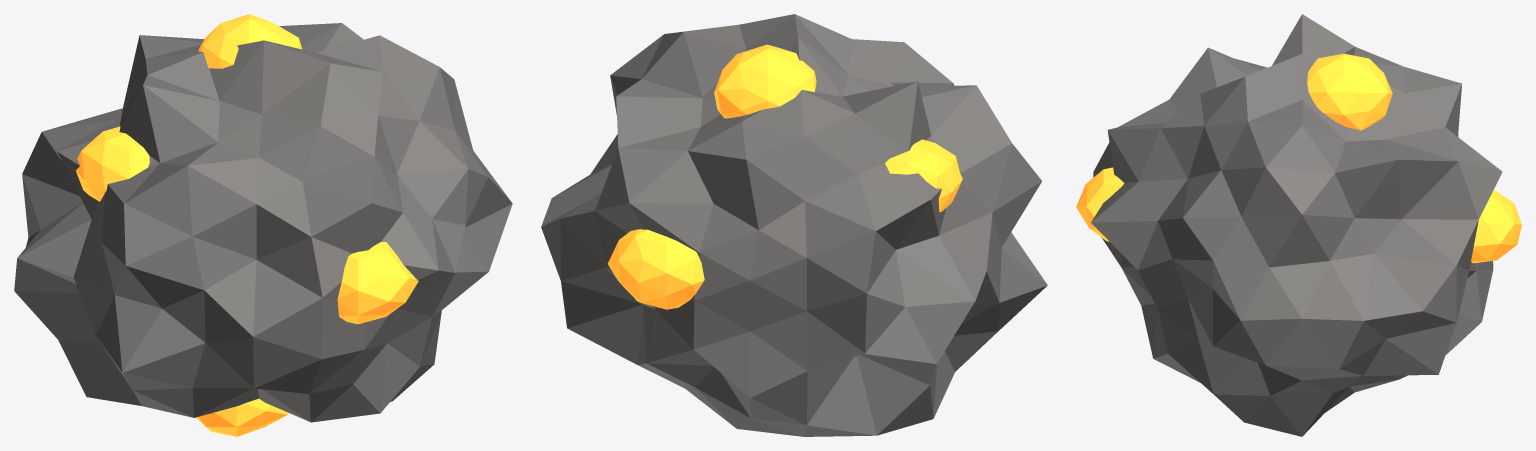
The model's file is volatile-rock.glb.
The picture shows the model from 3 angles, left to right: view 1: azimuth 30°, elevation 25°; view 2: azimuth 150°, elevation 25°; view 3: azimuth 270°, elevation 25°; orthographic projection. The views are drawn at different scales.
Visible parts, largest first — view 1: volatile-rock-rock, volatile-rock-orange; view 2: volatile-rock-rock, volatile-rock-orange; view 3: volatile-rock-rock, volatile-rock-orange.
Boxes of the visible parts, bbox=[...] form: volatile-rock-rock: bbox=[14, 23, 512, 422]; volatile-rock-orange: bbox=[76, 14, 418, 436]; volatile-rock-rock: bbox=[541, 14, 1047, 436]; volatile-rock-orange: bbox=[607, 44, 962, 309]; volatile-rock-rock: bbox=[1091, 14, 1502, 436]; volatile-rock-orange: bbox=[1076, 53, 1521, 263].
Bounding box in the file's own units: 1.9 × 1.64 × 1.89.
